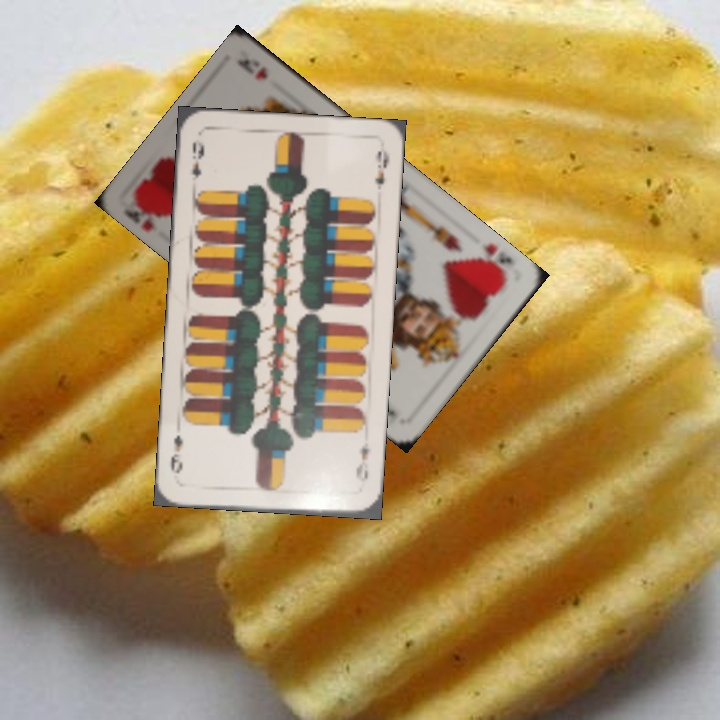E9: (351, 438, 371, 484), (188, 135, 207, 183)
HK: (119, 205, 168, 235), (474, 239, 516, 272)
